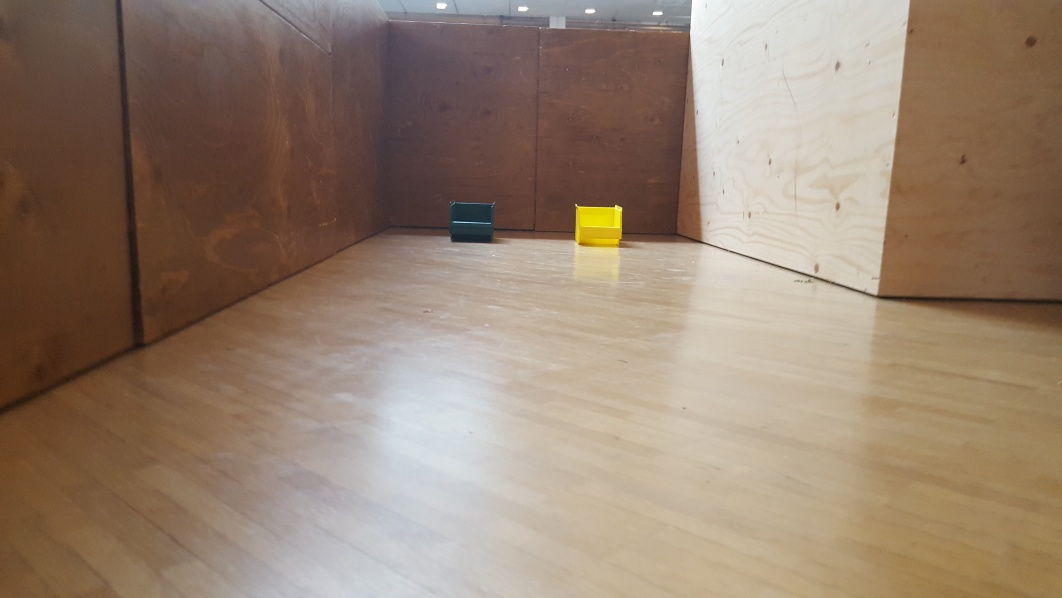tray: (569, 201, 627, 244), (447, 198, 498, 244)
